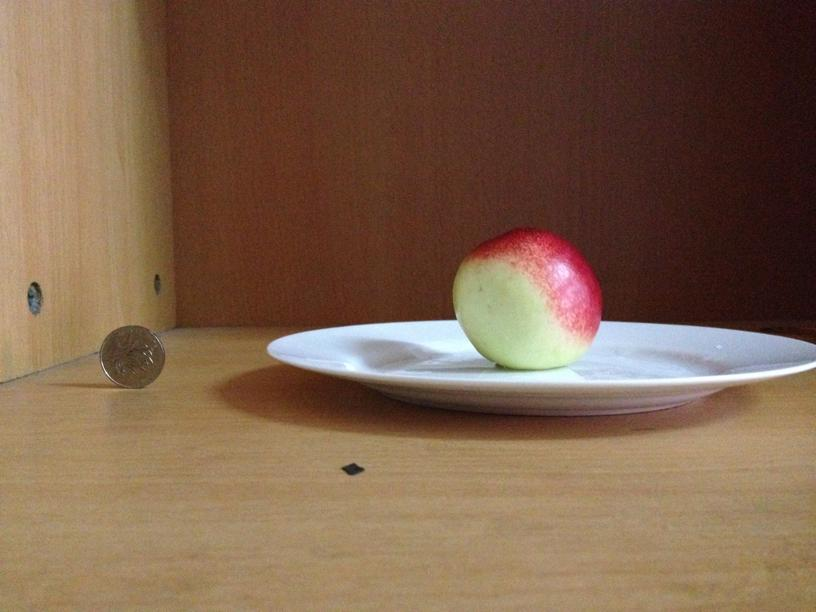coin: (95, 322, 167, 389)
peach: (449, 227, 604, 368)
